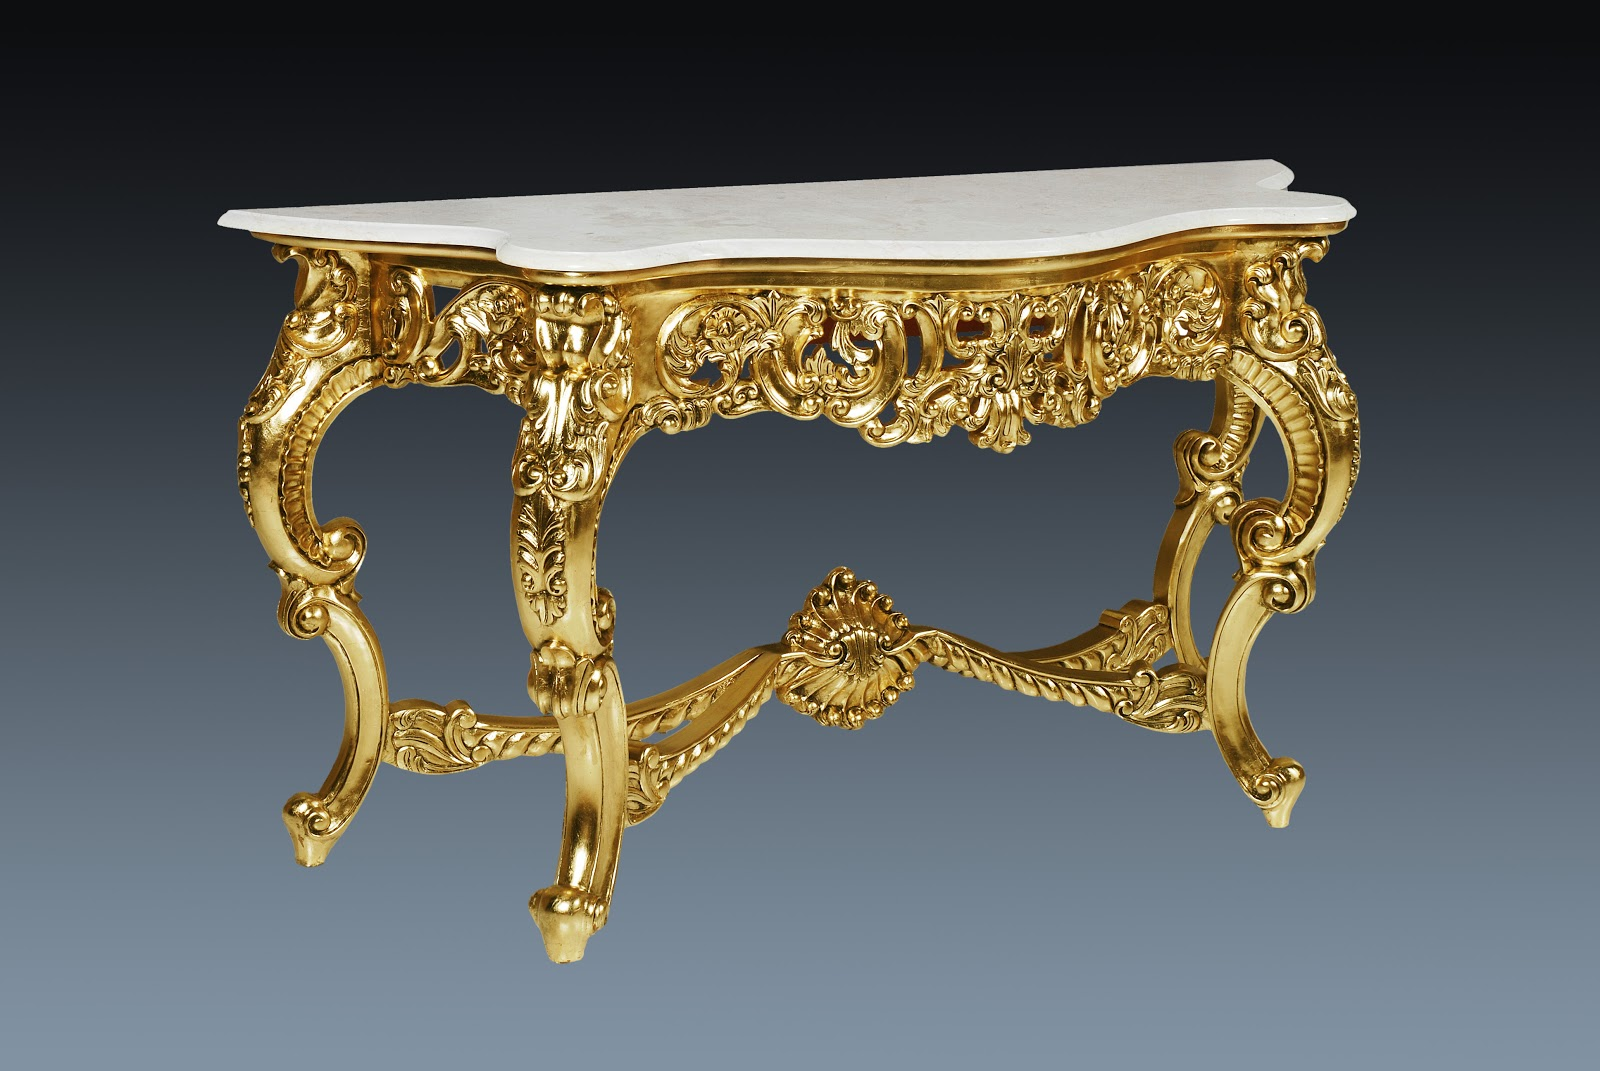Carving Table: (167, 146, 1406, 969)
